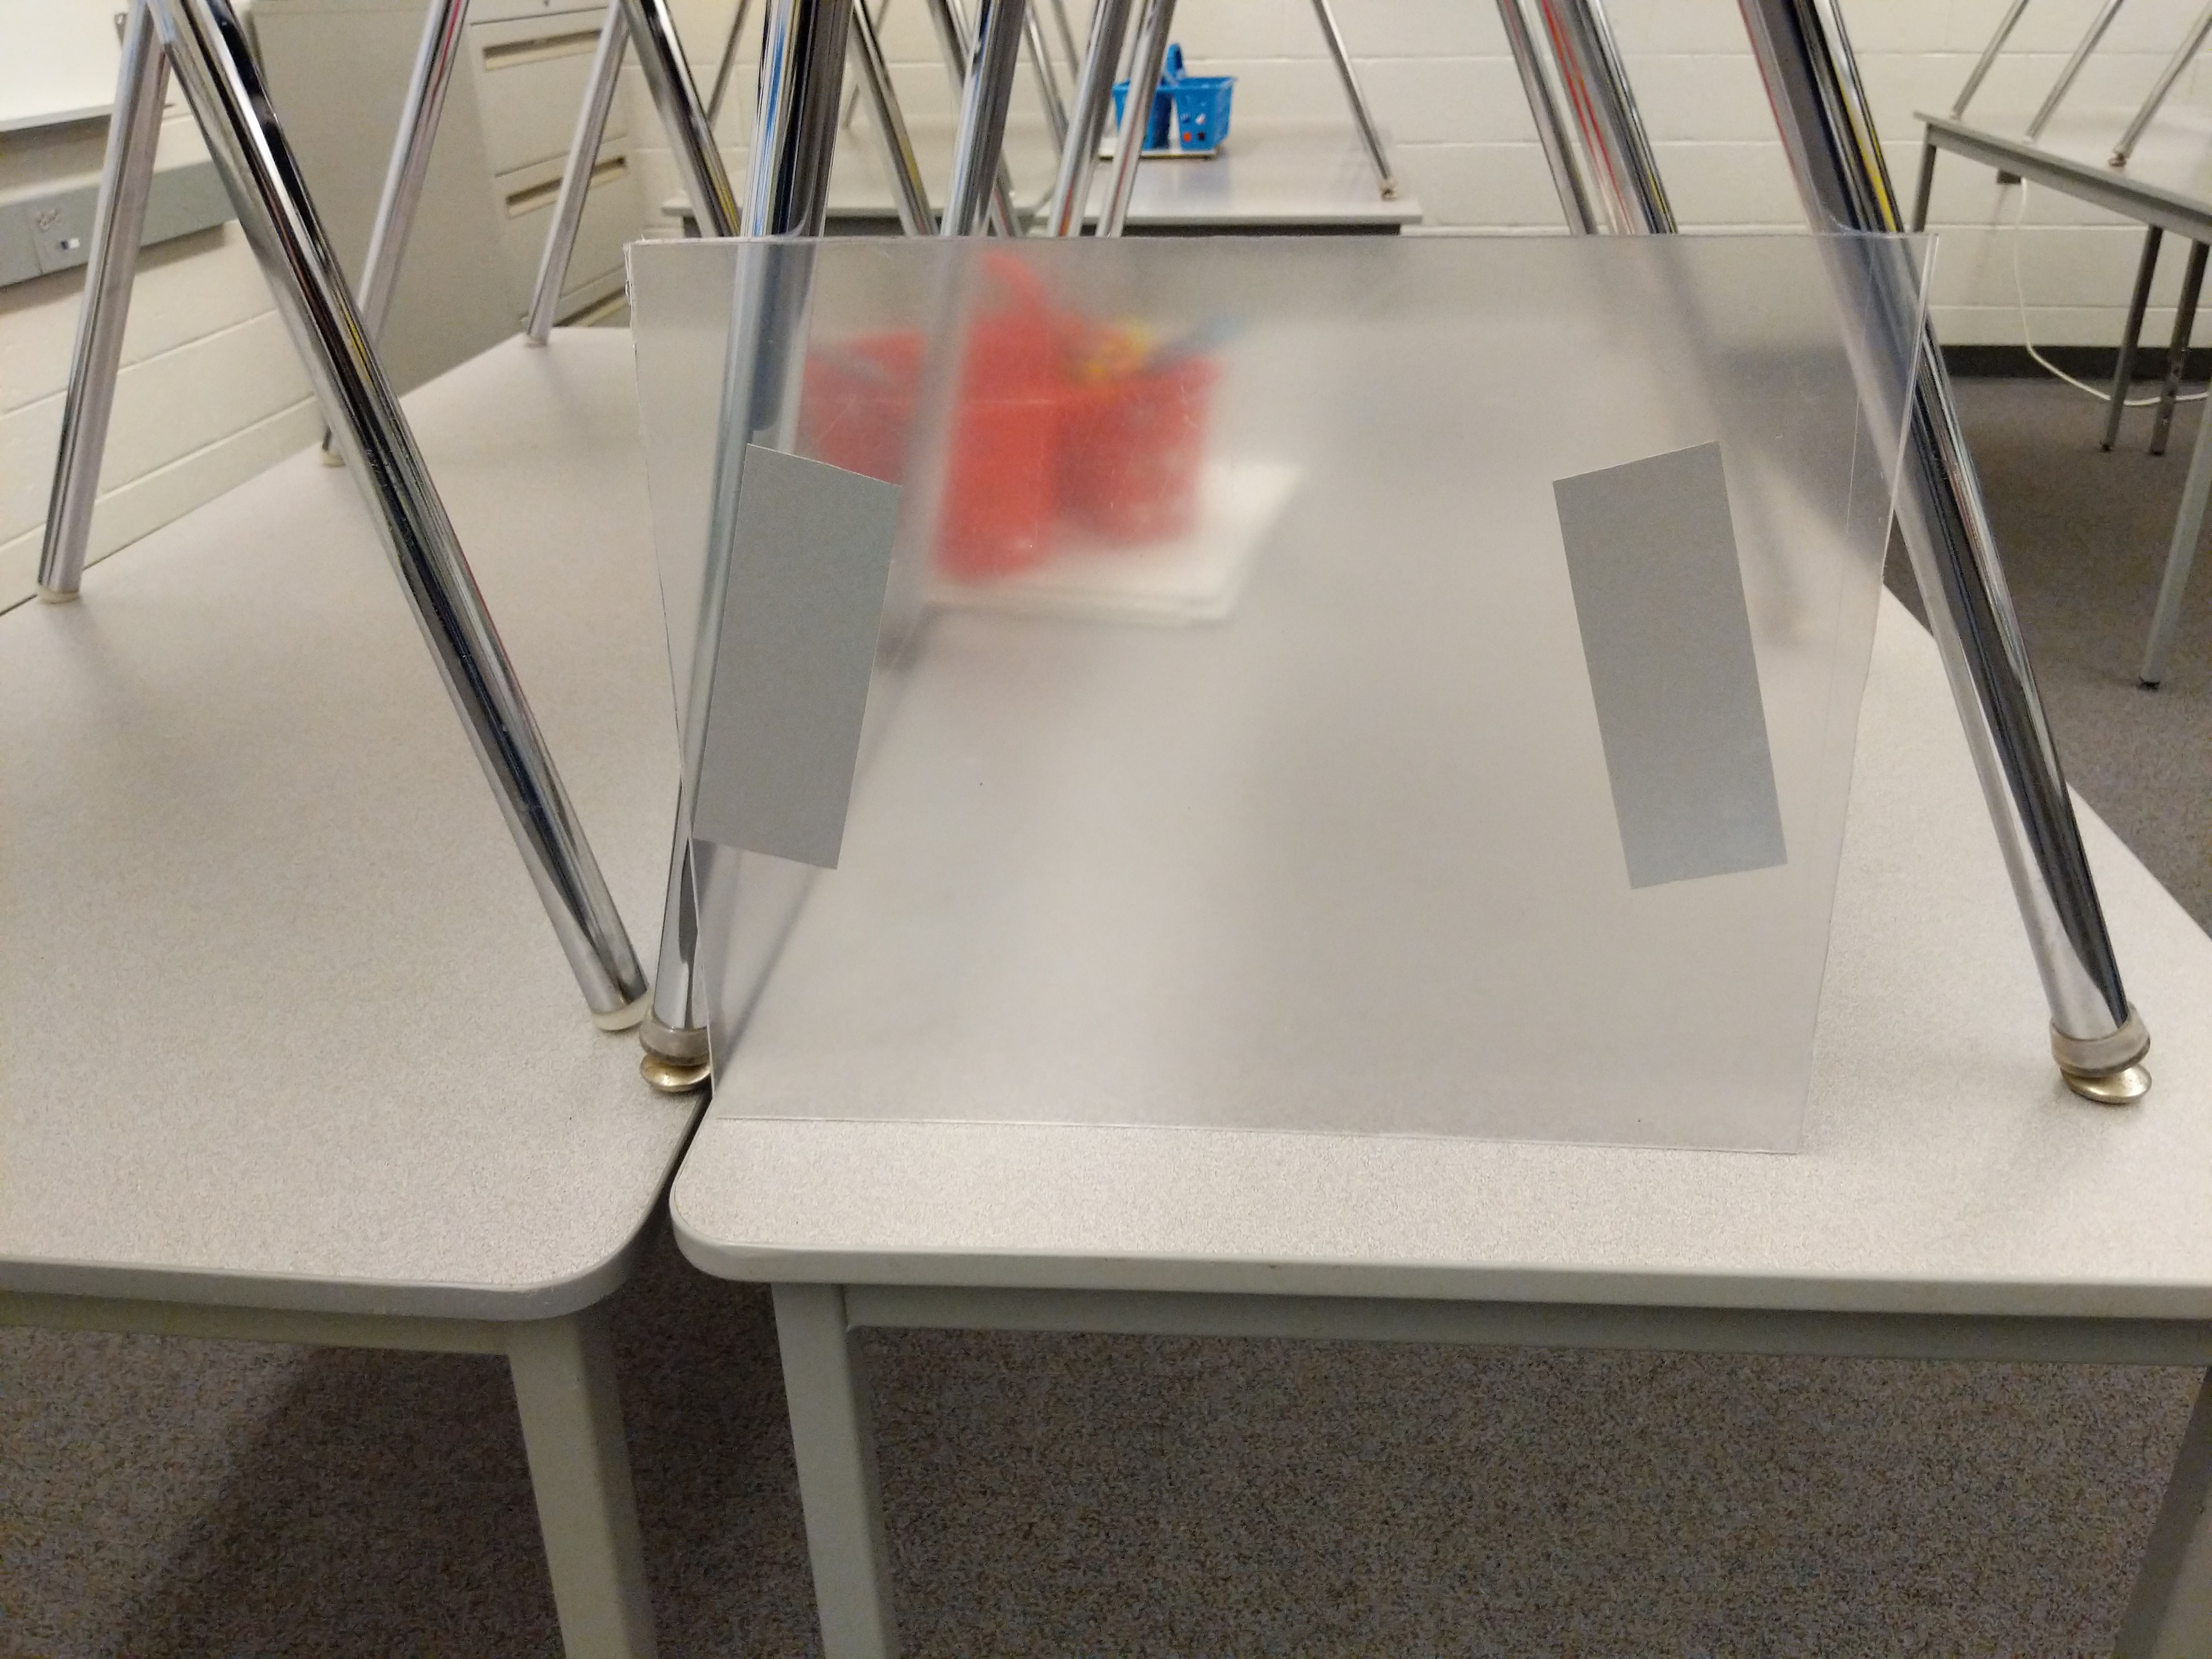vision_target: (672, 425, 1801, 906)
